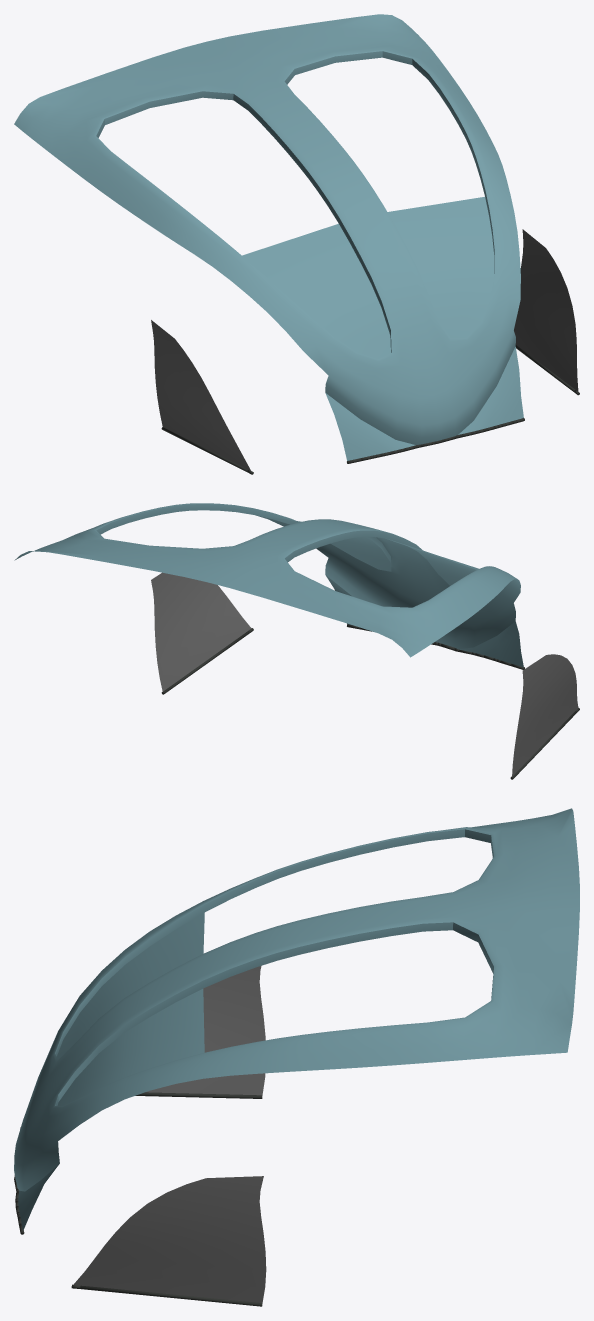
File: STAGE2_PART_008_ShortenedFrontHood.glb
3 views of the same model, one above another, from view 1: azimuth 30°, elevation 25°; view 2: azimuth 150°, elevation 25°; view 3: azimuth 270°, elevation 25° (orthographic). The views are drawn at different scales.
Visible parts, largest first — view 1: BODY_Stage2_RoundedNose_B_Body_Hood_Front_0, BODY_Stage2_RoundedNose_B_Body_Nose_Front_0, BODY_Stage2_RoundedNose_B_Body_Nose_Front_1, TRIM_Stage2_Nose_B_Body_Nose_Front_0, TRIM_Stage2_Nose_B_Body_Nose_Front_1; view 2: BODY_Stage2_RoundedNose_B_Body_Hood_Front_0, BODY_Stage2_RoundedNose_B_Body_Nose_Front_1, BODY_Stage2_RoundedNose_B_Body_Nose_Front_0, TRIM_Stage2_Nose_B_Body_Nose_Front_1, TRIM_Stage2_Nose_B_Body_Nose_Front_0; view 3: BODY_Stage2_RoundedNose_B_Body_Hood_Front_0, BODY_Stage2_RoundedNose_B_Body_Nose_Front_1, BODY_Stage2_RoundedNose_B_Body_Nose_Front_0, TRIM_Stage2_Nose_B_Body_Nose_Front_1.
Boxes of the visible parts, x1=… form: BODY_Stage2_RoundedNose_B_Body_Hood_Front_0: x1=14, y1=14, x2=520, y2=425; BODY_Stage2_RoundedNose_B_Body_Nose_Front_0: x1=242, y1=196, x2=523, y2=460; BODY_Stage2_RoundedNose_B_Body_Nose_Front_1: x1=151, y1=229, x2=578, y2=471; TRIM_Stage2_Nose_B_Body_Nose_Front_0: x1=347, y1=418, x2=524, y2=463; TRIM_Stage2_Nose_B_Body_Nose_Front_1: x1=161, y1=345, x2=579, y2=474; BODY_Stage2_RoundedNose_B_Body_Hood_Front_0: x1=14, y1=503, x2=520, y2=657; BODY_Stage2_RoundedNose_B_Body_Nose_Front_1: x1=151, y1=572, x2=578, y2=776; BODY_Stage2_RoundedNose_B_Body_Nose_Front_0: x1=240, y1=512, x2=523, y2=667; TRIM_Stage2_Nose_B_Body_Nose_Front_1: x1=161, y1=628, x2=579, y2=779; TRIM_Stage2_Nose_B_Body_Nose_Front_0: x1=347, y1=624, x2=524, y2=669; BODY_Stage2_RoundedNose_B_Body_Hood_Front_0: x1=14, y1=808, x2=579, y2=1165; BODY_Stage2_RoundedNose_B_Body_Nose_Front_1: x1=73, y1=966, x2=266, y2=1303; BODY_Stage2_RoundedNose_B_Body_Nose_Front_0: x1=14, y1=912, x2=204, y2=1230; TRIM_Stage2_Nose_B_Body_Nose_Front_1: x1=71, y1=1092, x2=262, y2=1306.
Size of the model in its own units: 1.15 by 0.6924 by 1.16.
